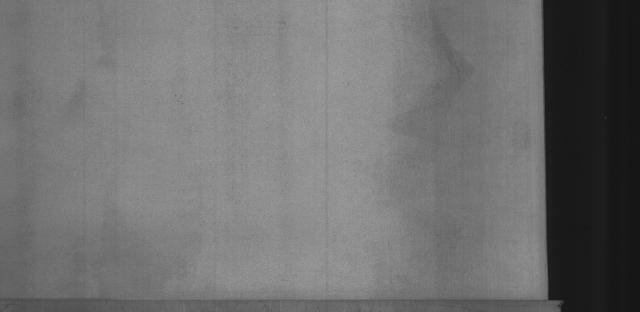welding_line: (5, 290, 588, 307)
